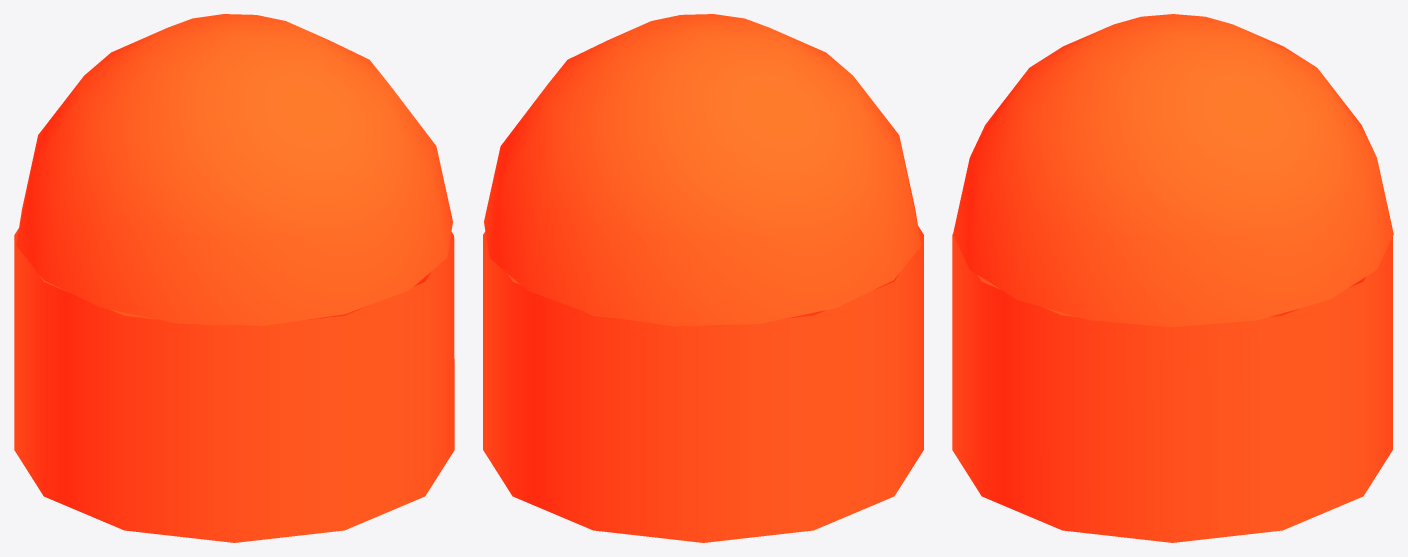
Rendered from spencer_robot_beacon.dae.
3 views of the same model, side by side, from view 1: azimuth 30°, elevation 25°; view 2: azimuth 150°, elevation 25°; view 3: azimuth 270°, elevation 25° (orthographic).
Visible parts, largest first — view 1: Sphere001, Cylinder001; view 2: Sphere001, Cylinder001; view 3: Sphere001, Cylinder001.
Part boxes in pixels (x1,y1,x2,y2): Sphere001: (16,14,452,325); Cylinder001: (14,228,454,542); Sphere001: (484,14,920,326); Cylinder001: (483,226,923,542); Sphere001: (953,14,1393,327); Cylinder001: (952,234,1392,542).
Bounding box in the file's own units: 0.7886 × 0.7888 × 0.8192.
